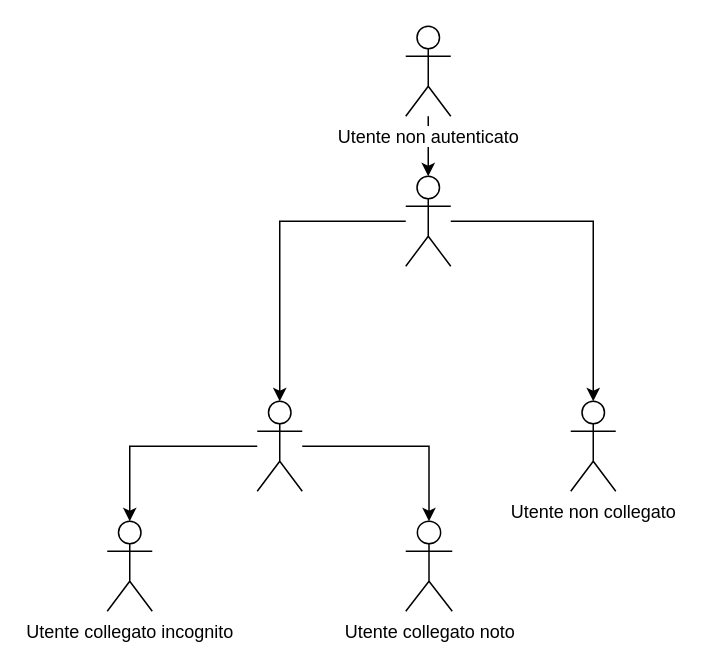
This 701x669 diagram has some shape labels left out. Here are the shapes that lost their labels. From the top down, the centre of each, then its label:
the point at 427,220: Utente autenticato
the point at 279,445: Utente collegato
